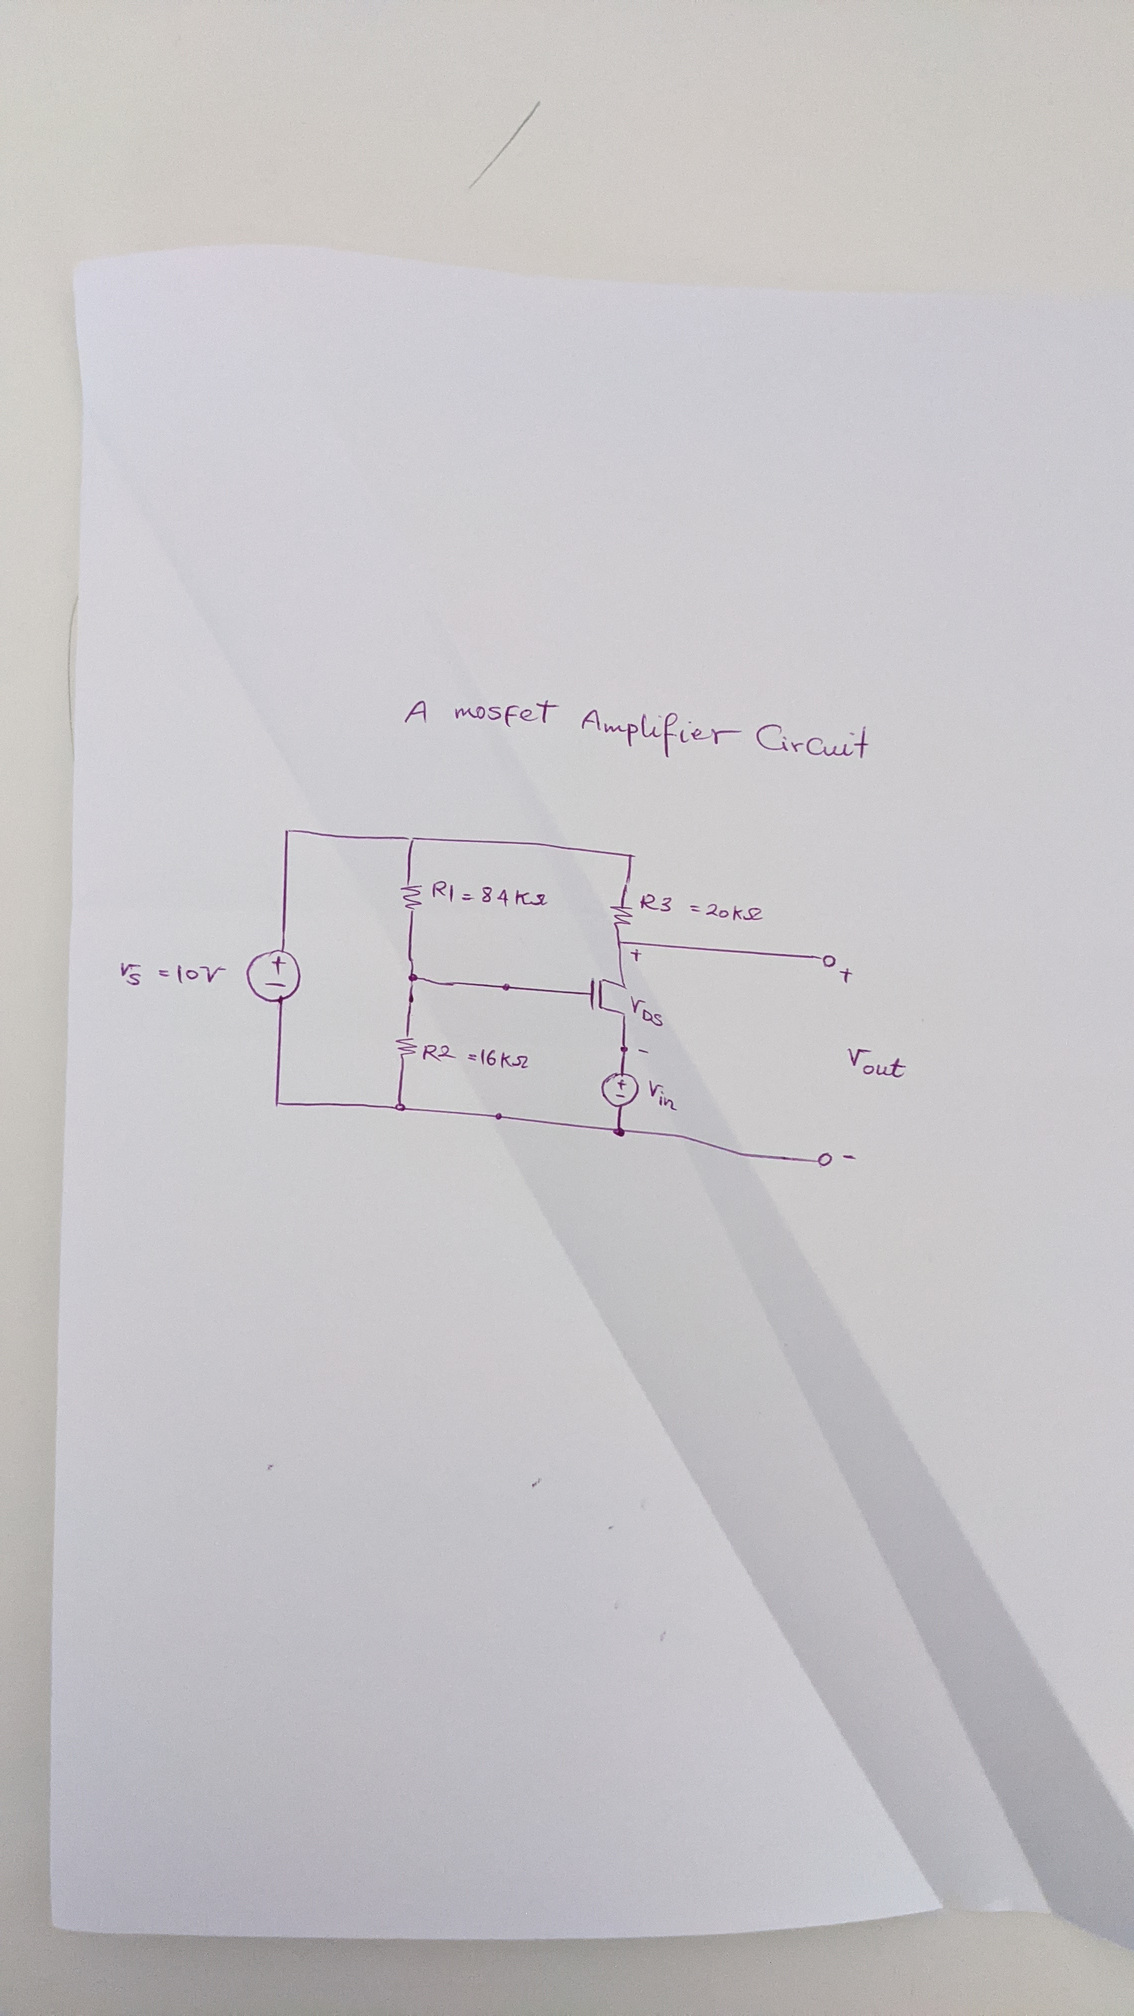junction: (406, 971, 422, 987), (392, 1099, 408, 1115), (611, 1124, 629, 1138), (404, 834, 420, 845), (613, 937, 626, 948), (271, 1098, 284, 1108), (282, 827, 294, 836), (624, 852, 636, 861)
resistor: (399, 882, 425, 912), (608, 903, 634, 928), (395, 1034, 420, 1061)
terminal: (816, 1151, 834, 1169), (817, 953, 836, 968)
text: (402, 696, 870, 763), (640, 892, 764, 922), (431, 878, 550, 908), (420, 1043, 532, 1072), (118, 960, 228, 987), (845, 1045, 907, 1080), (629, 993, 666, 1027), (647, 1077, 680, 1112), (838, 966, 854, 984), (629, 947, 642, 964), (840, 1151, 858, 1163), (636, 1045, 649, 1056)
transistor: (588, 976, 629, 1018)
voltage.dc: (244, 948, 303, 1004), (600, 1070, 641, 1109)
